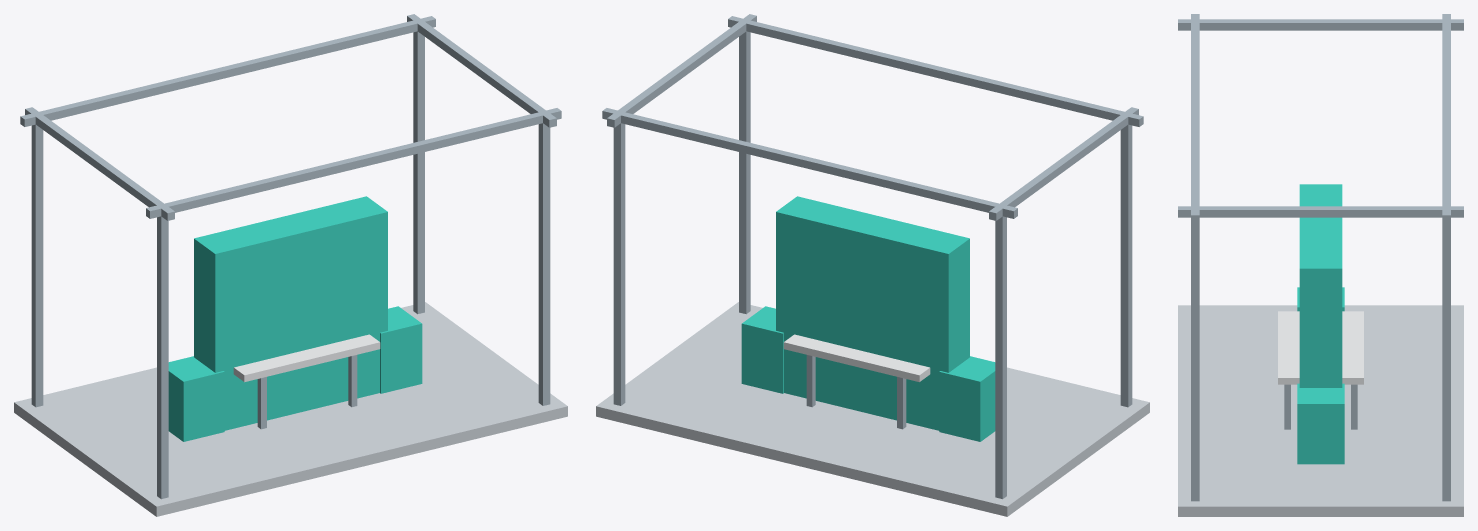
The picture shows the model from 3 angles, left to right: view 1: azimuth 30°, elevation 25°; view 2: azimuth 150°, elevation 25°; view 3: azimuth 270°, elevation 25°; orthographic projection.
Visible parts, largest first — view 1: Exhibition Booth Concept; view 2: Exhibition Booth Concept; view 3: Exhibition Booth Concept.
Boxes of the visible parts, bbox=[...] form: Exhibition Booth Concept: bbox=[14, 14, 567, 516]; Exhibition Booth Concept: bbox=[596, 14, 1149, 516]; Exhibition Booth Concept: bbox=[1178, 14, 1463, 516].
Size of the model in its own units: 5 by 3.49 by 3.
